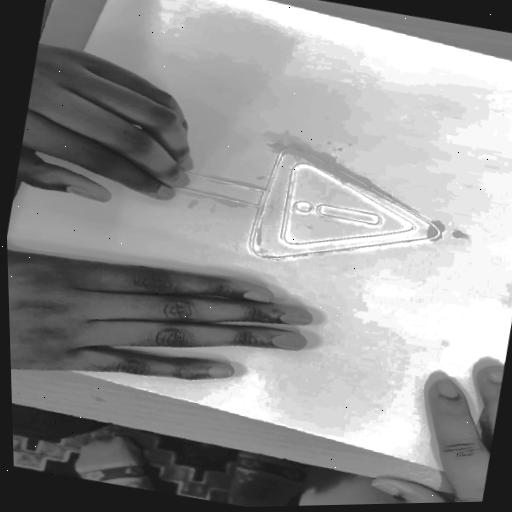signboard: (100, 89, 480, 305)
